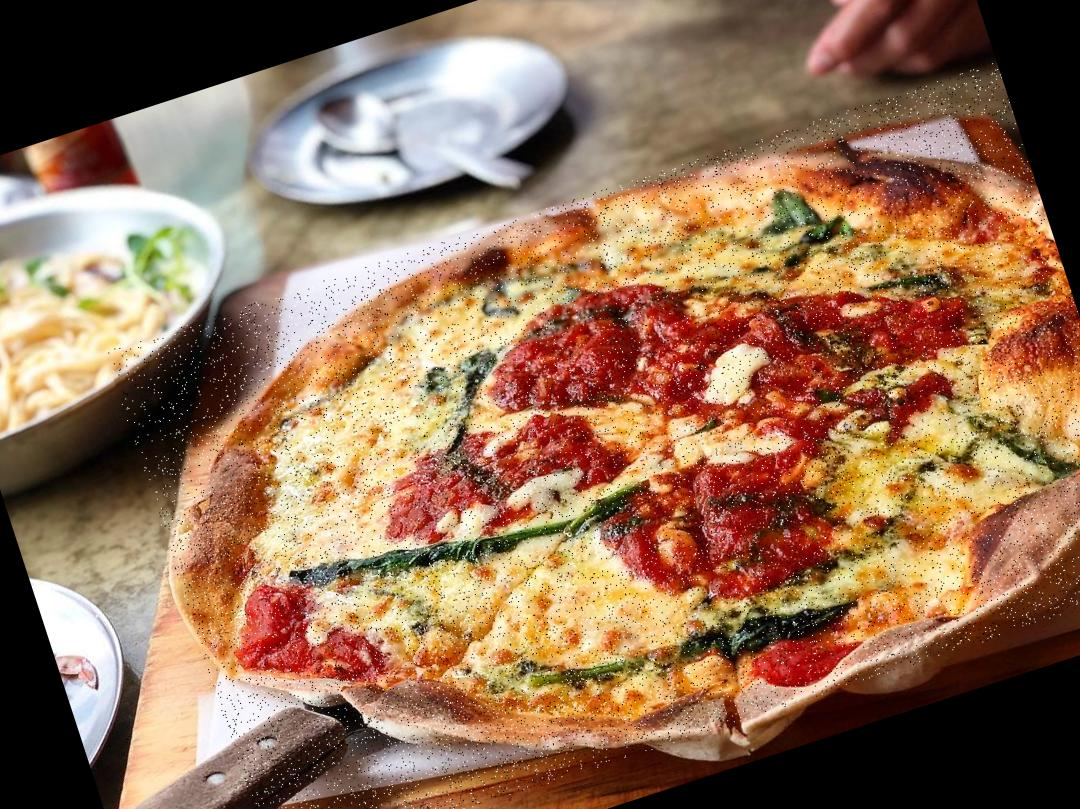Pizza: (104, 61, 1080, 809)
